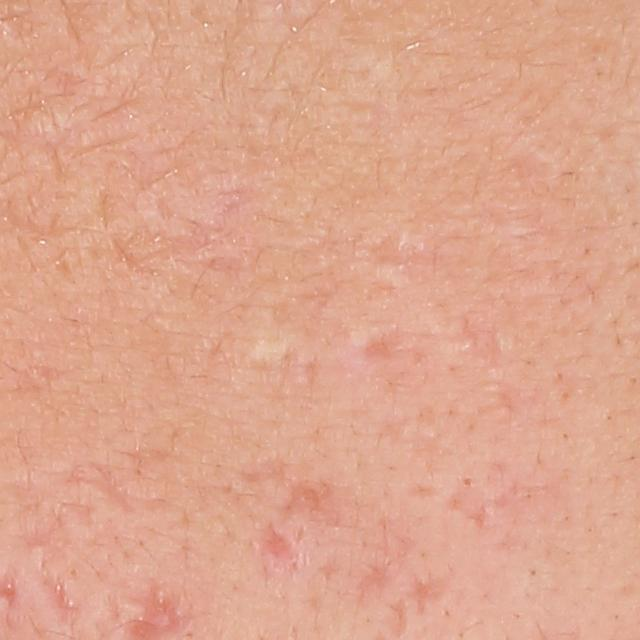atrophic_scar: (85, 462, 147, 513), (285, 481, 345, 529), (35, 566, 82, 626), (354, 556, 398, 608), (442, 487, 491, 530), (405, 571, 443, 618), (361, 329, 402, 360), (388, 599, 410, 640)
comedo: (457, 473, 480, 491)
hypertrophic_scar: (236, 313, 294, 373), (115, 600, 152, 621)
